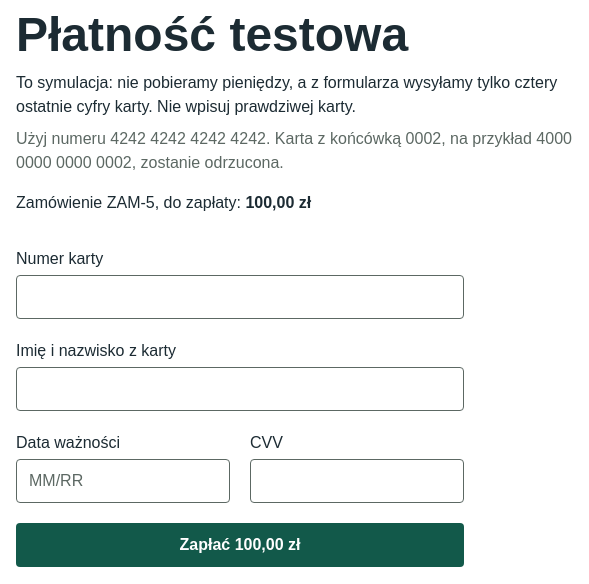
Test: PaymentPage › accepts digits only in the CVV
Type "1a2" into the field labelled "CVV" at coordinates (357, 481), box [250,459,464,503]
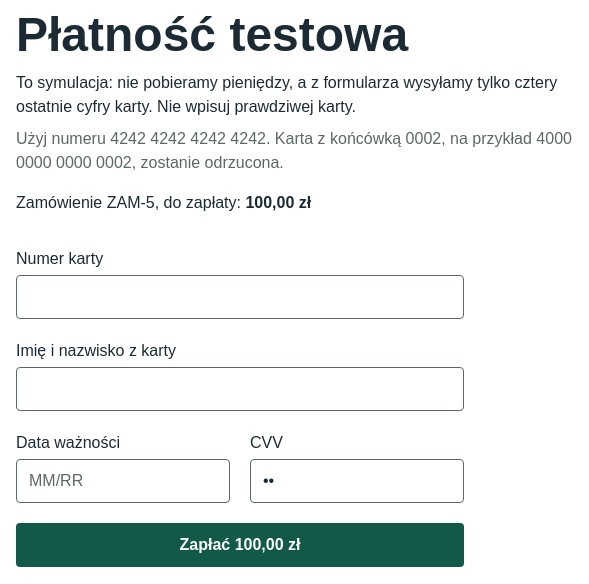
Now the field labelled "CVV" holds "12", box [250,459,464,503]
